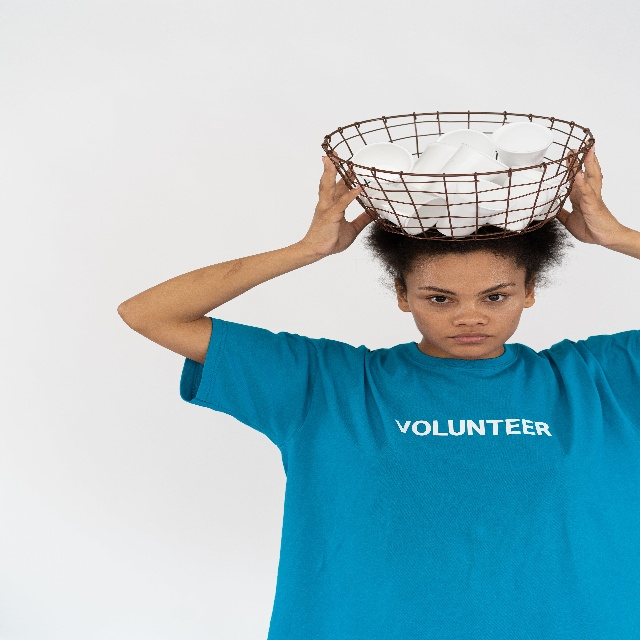Sin_guantes: (306, 149, 377, 257), (557, 138, 621, 247)
